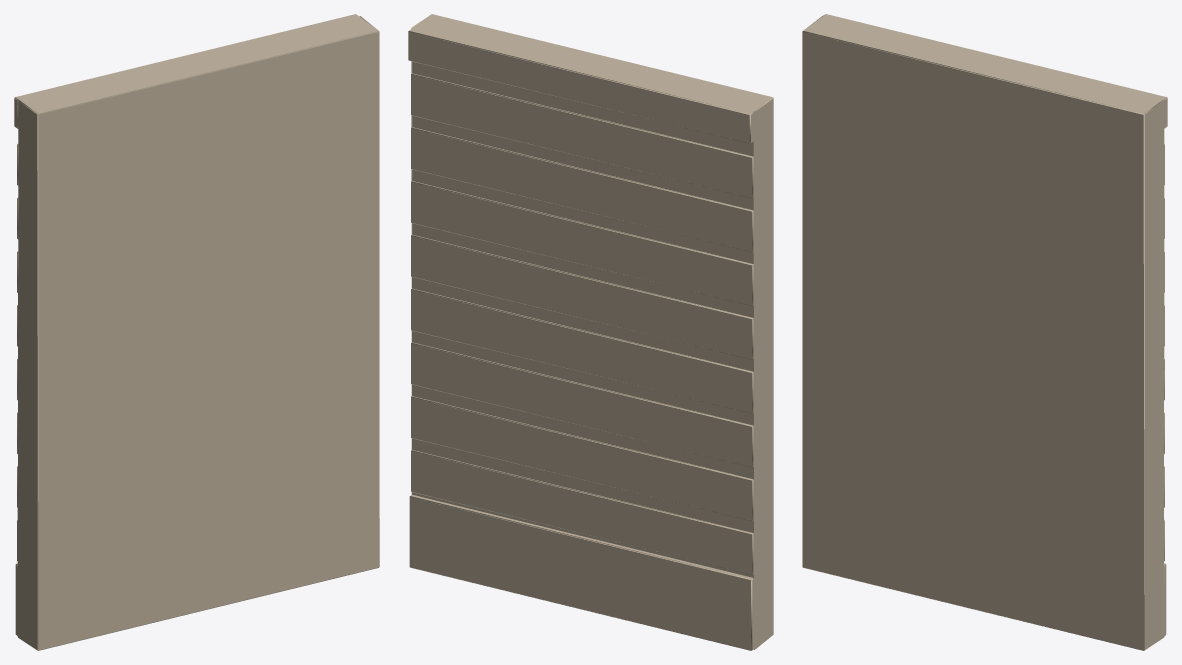
File: SM_VB_FacA_GroundPlain.fbx
3 renders of one model, left to right at view 1: azimuth 30°, elevation 25°; view 2: azimuth 150°, elevation 25°; view 3: azimuth 330°, elevation 25°, orthographic.
Visible parts, largest first — view 1: SM_VB_FacA_GroundPlain; view 2: SM_VB_FacA_GroundPlain; view 3: SM_VB_FacA_GroundPlain.
Boxes of the visible parts, x1,y1,x2,y2 form: SM_VB_FacA_GroundPlain: (14, 14, 379, 650); SM_VB_FacA_GroundPlain: (408, 14, 773, 650); SM_VB_FacA_GroundPlain: (802, 14, 1167, 650).
Size of the model in its own units: 3 by 4.51 by 0.36.
